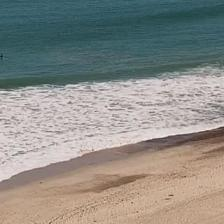surfer: (0, 54, 3, 57)
